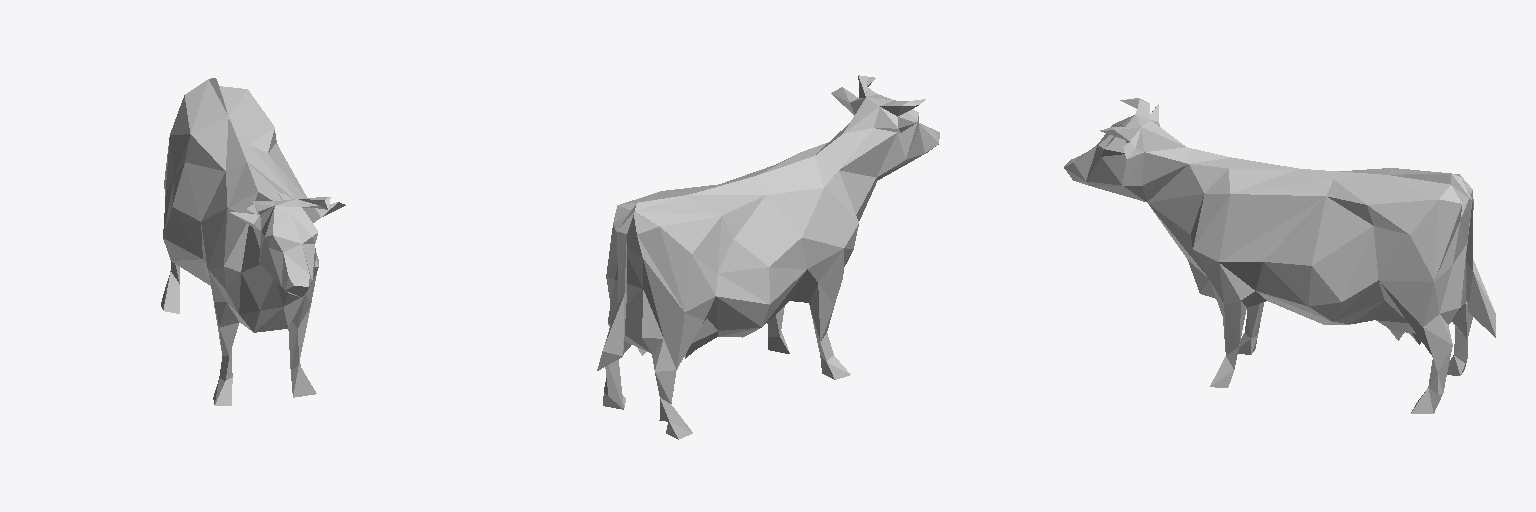
Rendered from simplify_cow_fixed.obj.
3 renders of one model, left to right at view 1: azimuth 30°, elevation 25°; view 2: azimuth 150°, elevation 25°; view 3: azimuth 270°, elevation 25°, orthographic.
Bounding box in the file's own units: 11.25 × 14.9 × 23.96.